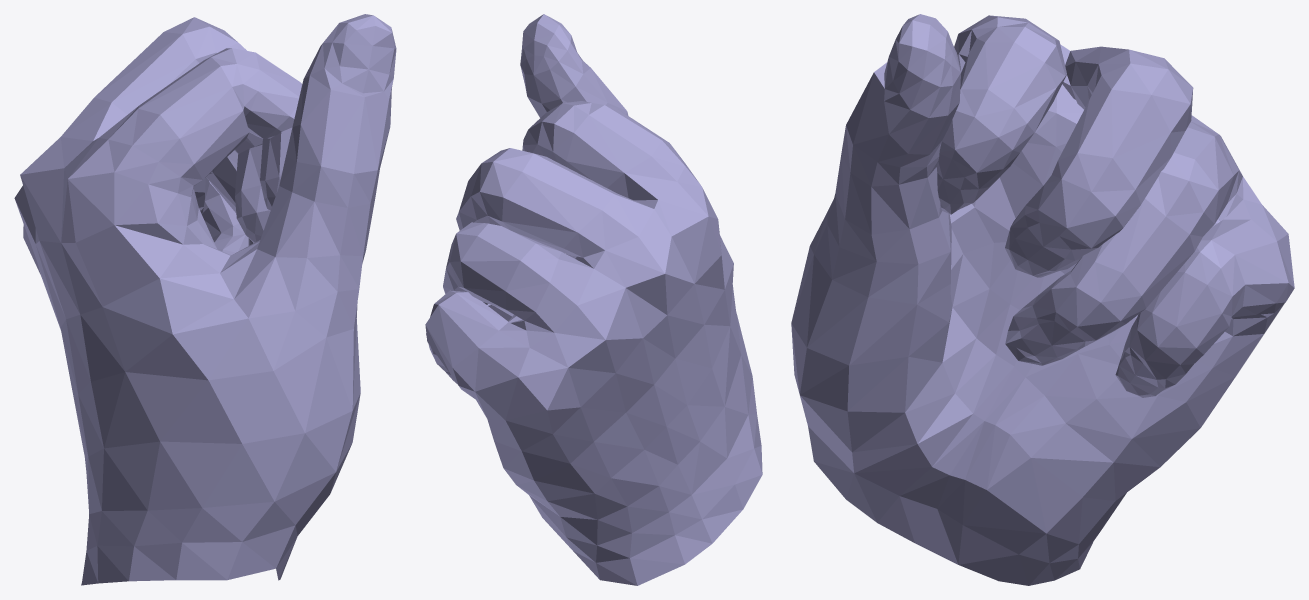
The model's file is frame_0029_source_000029_hand.glb.
The picture shows the model from 3 angles, left to right: view 1: azimuth 30°, elevation 25°; view 2: azimuth 150°, elevation 25°; view 3: azimuth 270°, elevation 25°; orthographic projection. The views are drawn at different scales.
Parts seen in each view (by area): view 1: world; view 2: world; view 3: world.
Boxes of the visible parts, x1,y1,x2,y2 form: world: (14, 14, 396, 585); world: (425, 14, 762, 585); world: (791, 14, 1294, 585).
Bounding box in the file's own units: 0.0625 × 0.1244 × 0.0908.
